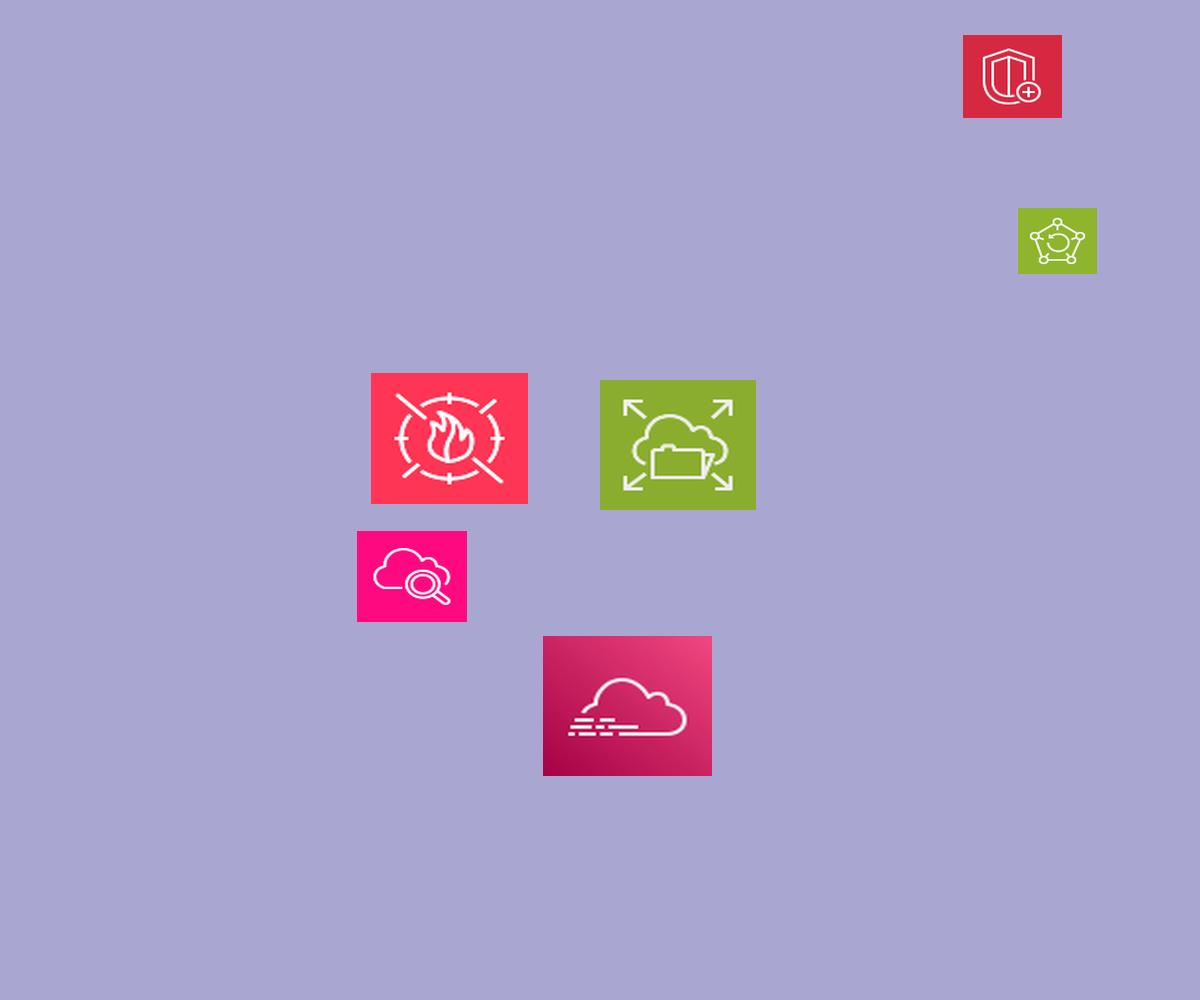AWS-Backup: (1018, 208, 1097, 274)
AWS-CloudTrail: (543, 636, 712, 776)
AWS-CloudWatch: (357, 531, 467, 622)
AWS-EFS: (600, 380, 756, 510)
AWS-Shield: (963, 35, 1062, 118)
AWS-WAF: (371, 373, 528, 504)
